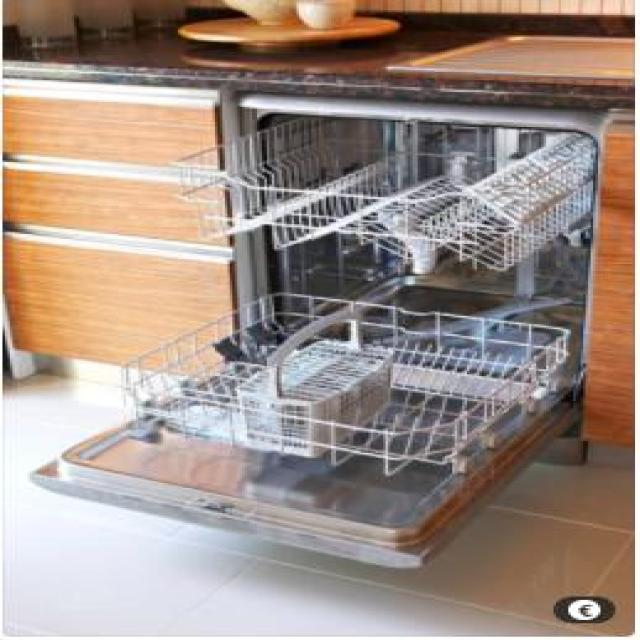dishwasher: (22, 85, 606, 570)
